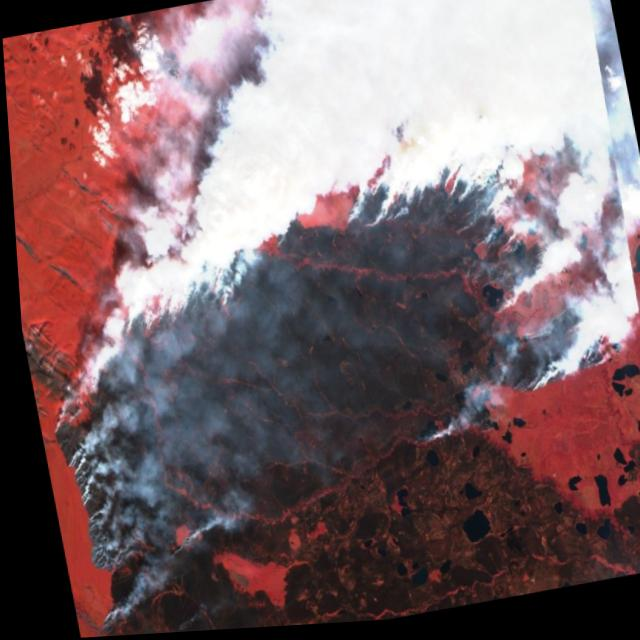fire: (6, 89, 640, 640)
